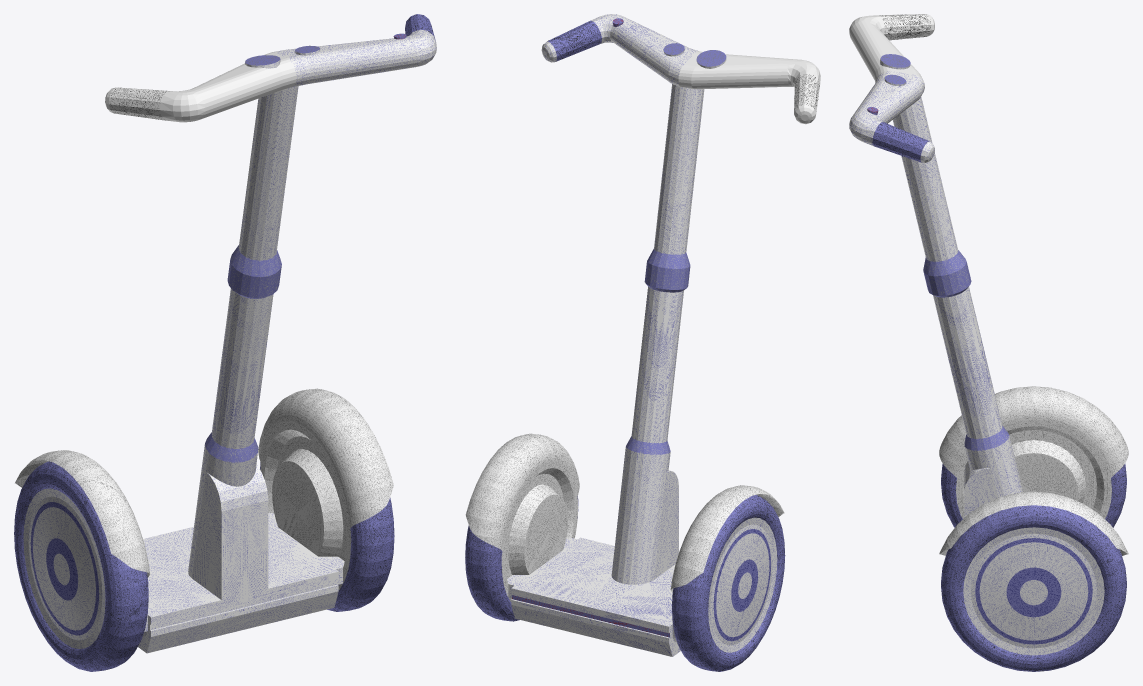
Rendered from segway.obj.
3 views of the same model, side by side, from view 1: azimuth 30°, elevation 25°; view 2: azimuth 150°, elevation 25°; view 3: azimuth 270°, elevation 25° (orthographic). The views are drawn at different scales.
Parts seen in each view (by area): view 1: instance_3.005_ID273, instance_2.004_ID135, instance_3.004_ID265, instance_2_ID103, instance_2.007_ID163, instance_2.008_ID171, instance_1_ID55, instance_2.005_ID143, instance_0_ID5, instance_2.001_ID111, instance_3_ID233, instance_2.002_ID119 (+6 smaller); view 2: instance_3.005_ID273, instance_2.004_ID135, instance_3.004_ID265, instance_2_ID103, instance_2.007_ID163, instance_2.008_ID171, instance_0_ID5, instance_2.005_ID143, instance_2.001_ID111, instance_1_ID55, instance_3_ID233, instance_2.002_ID119 (+7 smaller); view 3: instance_2.005_ID143, instance_3_ID233, instance_3.001_ID241, instance_3.007_ID289, instance_3.002_ID249, instance_3.008_ID297, instance_3.004_ID265, instance_3.005_ID273, instance_1_ID55, instance_0_ID5, instance_3.010_ID313, instance_3.009_ID305 (+6 smaller).
Part boxes in pixels (x1=…): instance_3.005_ID273: x1=258, y1=388, x2=393, y2=589; instance_2.004_ID135: x1=138, y1=444, x2=244, y2=653; instance_3.004_ID265: x1=163, y1=453, x2=344, y2=630; instance_2_ID103: x1=14, y1=461, x2=148, y2=671; instance_2.007_ID163: x1=211, y1=288, x2=263, y2=448; instance_2.008_ID171: x1=238, y1=88, x2=289, y2=260; instance_1_ID55: x1=272, y1=29, x2=436, y2=87; instance_2.005_ID143: x1=15, y1=450, x2=150, y2=577; instance_0_ID5: x1=160, y1=52, x2=296, y2=122; instance_2.001_ID111: x1=32, y1=507, x2=95, y2=630; instance_3_ID233: x1=260, y1=462, x2=394, y2=611; instance_2.002_ID119: x1=23, y1=488, x2=105, y2=648; instance_3.005_ID273: x1=465, y1=433, x2=579, y2=596; instance_2.004_ID135: x1=590, y1=452, x2=680, y2=656; instance_3.004_ID265: x1=507, y1=447, x2=636, y2=637; instance_2_ID103: x1=672, y1=495, x2=785, y2=671; instance_2.007_ID163: x1=640, y1=290, x2=683, y2=443; instance_2.008_ID171: x1=662, y1=87, x2=704, y2=254; instance_0_ID5: x1=678, y1=51, x2=820, y2=89; instance_2.005_ID143: x1=670, y1=485, x2=784, y2=592; instance_2.001_ID111: x1=716, y1=533, x2=769, y2=637; instance_1_ID55: x1=591, y1=14, x2=698, y2=86; instance_3_ID233: x1=465, y1=496, x2=578, y2=621; instance_2.002_ID119: x1=708, y1=517, x2=777, y2=652; instance_2.005_ID143: x1=939, y1=386, x2=1128, y2=518; instance_3_ID233: x1=941, y1=505, x2=1126, y2=671; instance_3.001_ID241: x1=979, y1=542, x2=1088, y2=640; instance_3.007_ID289: x1=933, y1=287, x2=1002, y2=438; instance_3.002_ID249: x1=963, y1=527, x2=1104, y2=655; instance_3.008_ID297: x1=893, y1=96, x2=958, y2=261; instance_3.004_ID265: x1=964, y1=436, x2=1022, y2=517; instance_3.005_ID273: x1=939, y1=491, x2=1128, y2=555; instance_1_ID55: x1=849, y1=71, x2=924, y2=145; instance_0_ID5: x1=849, y1=15, x2=923, y2=81; instance_3.010_ID313: x1=1006, y1=567, x2=1061, y2=617; instance_3.009_ID305: x1=975, y1=538, x2=1092, y2=644.
Bounding box in the file's own units: 0.7481 × 1.42 × 0.65.
